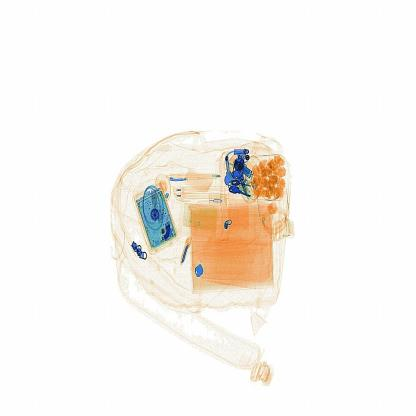pliers: (179, 229, 196, 278)
